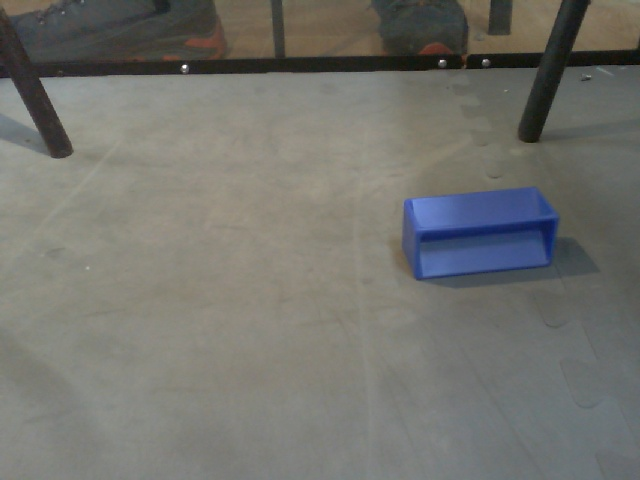BlueSample: (395, 183, 561, 283)
